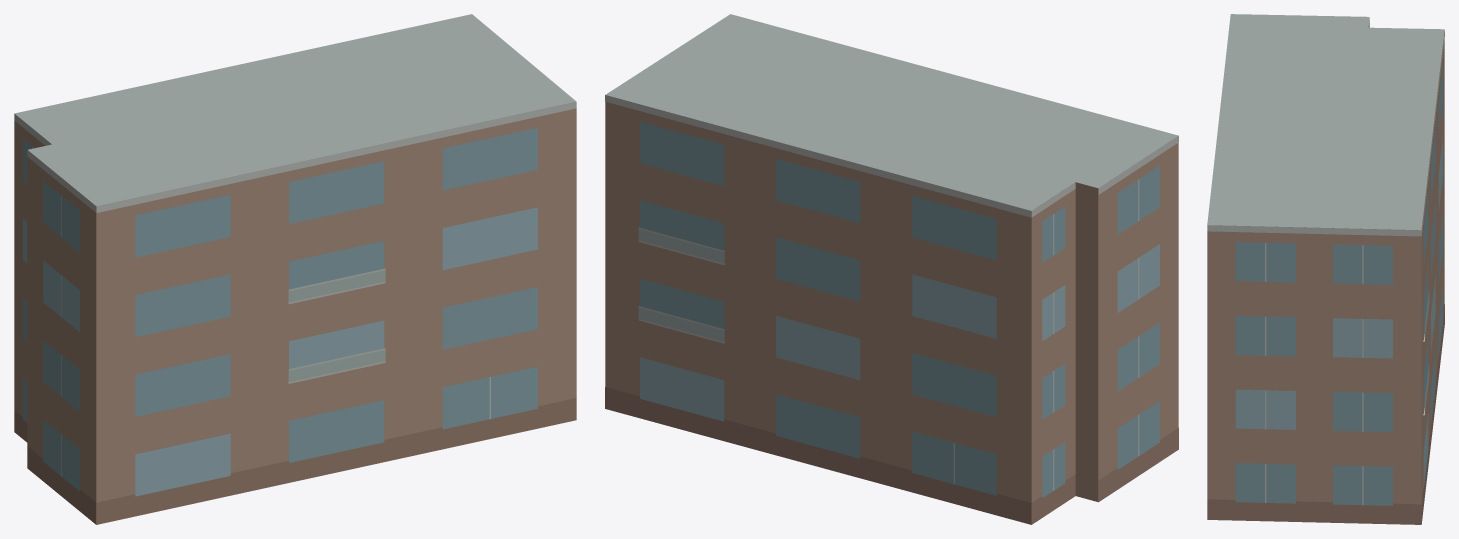
Rendered from survey-upis-32683705.glb.
3 views of the same model, side by side, from view 1: azimuth 30°, elevation 25°; view 2: azimuth 150°, elevation 25°; view 3: azimuth 270°, elevation 25° (orthographic). The views are drawn at different scales.
Parts seen in each view (by area): view 1: survey-upis-32683705.tmp; view 2: survey-upis-32683705.tmp; view 3: survey-upis-32683705.tmp.
Boxes of the visible parts, box(x1,y1,x2,y2) form: survey-upis-32683705.tmp: box(14, 14, 576, 524); survey-upis-32683705.tmp: box(605, 14, 1178, 524); survey-upis-32683705.tmp: box(1207, 14, 1444, 524).
Bounding box in the file's own units: 17.94 × 11.4 × 8.34.
